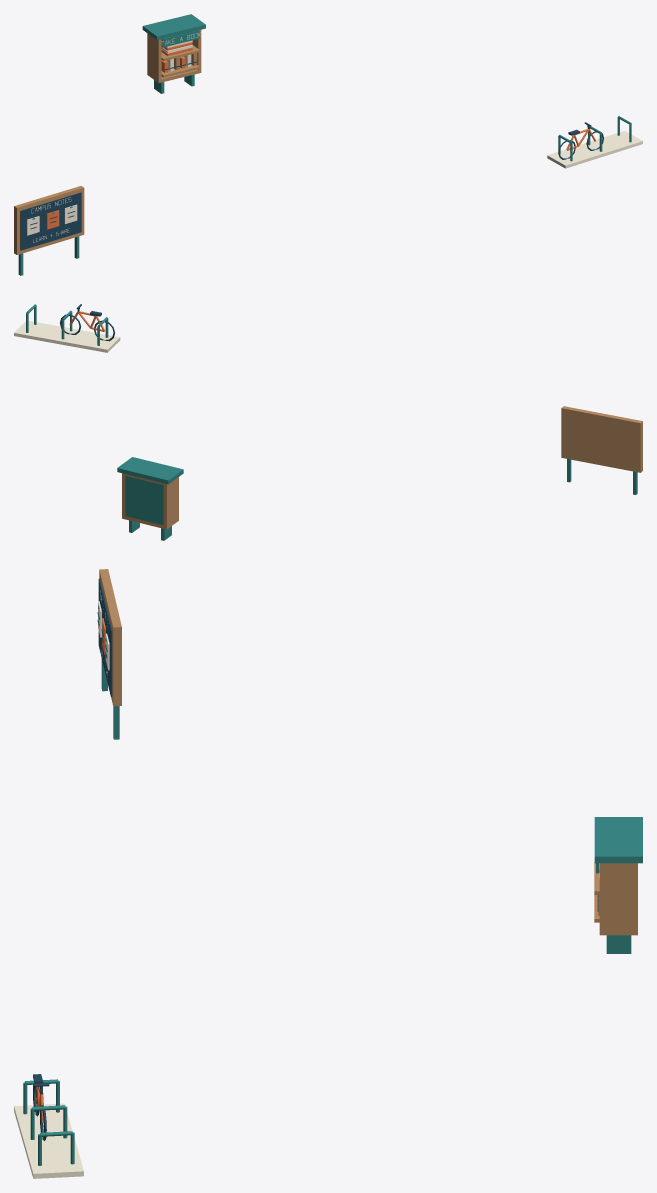
The model's file is learning.glb.
The picture shows the model from 3 angles, top to bottom: view 1: azimuth 30°, elevation 25°; view 2: azimuth 150°, elevation 25°; view 3: azimuth 270°, elevation 25°; orthographic projection. The views are drawn at different scales.
Parts seen in each view (by area): view 1: static_detail_wood, static_detail_ivory, static_detail_navy, static_detail_teal, static_detail_orange; view 2: static_detail_wood, static_detail_teal, static_detail_ivory; view 3: static_detail_wood, static_detail_teal, static_detail_ivory, static_detail_navy.
Part boxes in pixels (<box>): static_detail_wood: <box>14,29,201,254</box>; static_detail_ivory: <box>27,32,642,242</box>; static_detail_navy: <box>20,61,603,250</box>; static_detail_teal: <box>18,14,631,275</box>; static_detail_orange: <box>46,42,595,229</box>; static_detail_wood: <box>122,406,642,529</box>; static_detail_teal: <box>26,304,637,540</box>; static_detail_ivory: <box>14,321,120,352</box>; static_detail_wood: <box>99,569,637,935</box>; static_detail_teal: <box>23,605,642,1165</box>; static_detail_ivory: <box>14,590,599,1178</box>; static_detail_navy: <box>33,578,598,1140</box>.
Bounding box in the file's own units: 19.89 × 2.18 × 10.71.
